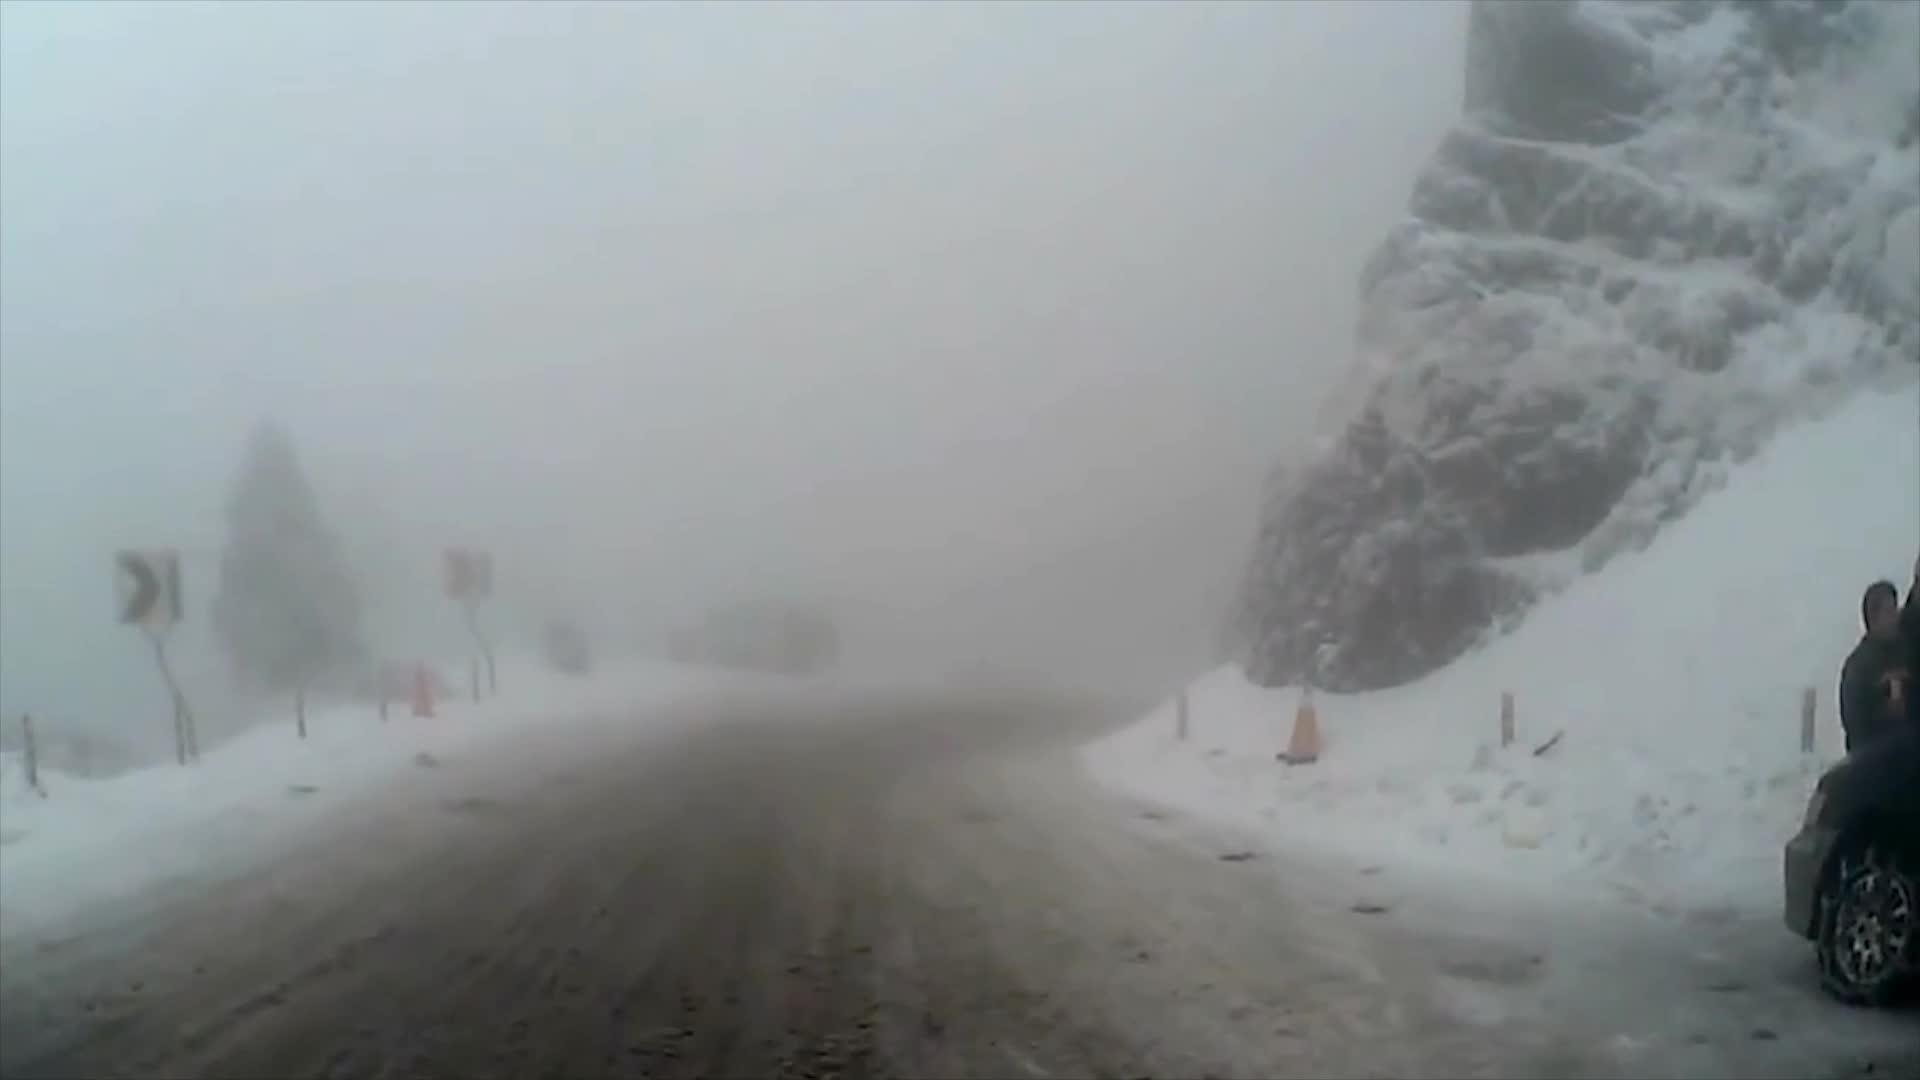pedestrian: (1838, 582, 1917, 911)
vehicle: (1778, 713, 1919, 1008)
